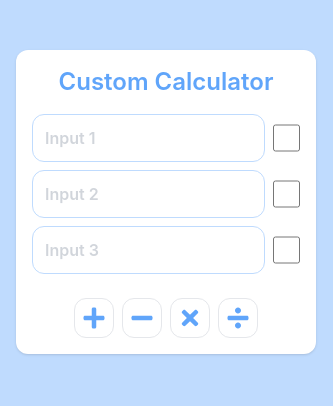
Test: Home › shows correct UI when input 1 2 is filled
Type "1" into the number field with placeholder "Input 1". click: (148, 138)
box: [32,114,265,162]
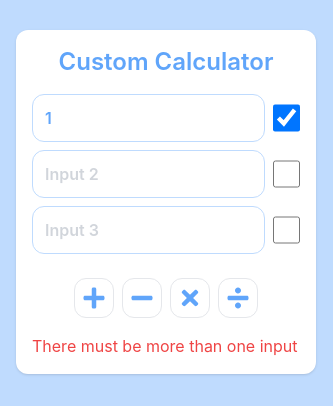
Type "2" into the number field with placeholder "Input 2". click: (148, 174)
box: [32,150,265,198]
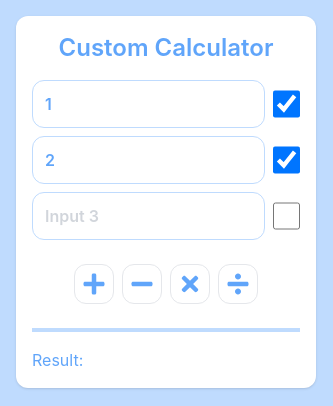
Expected: the text "There must be more than one input" is gone
